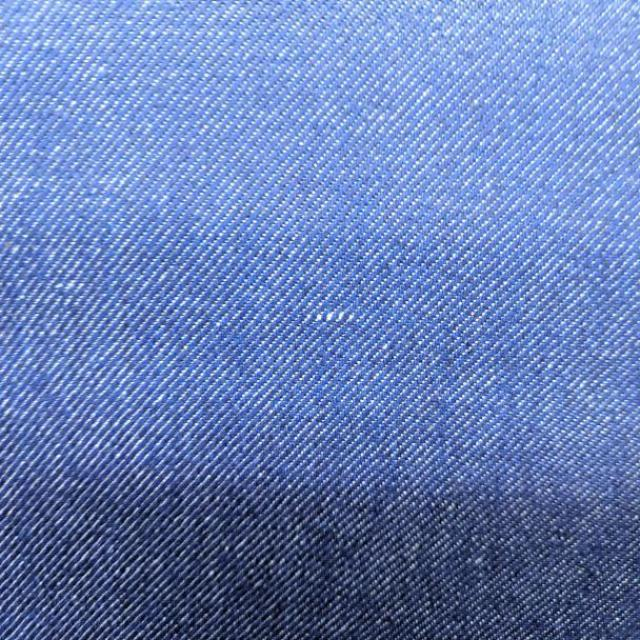Knot: (306, 311, 357, 325)
